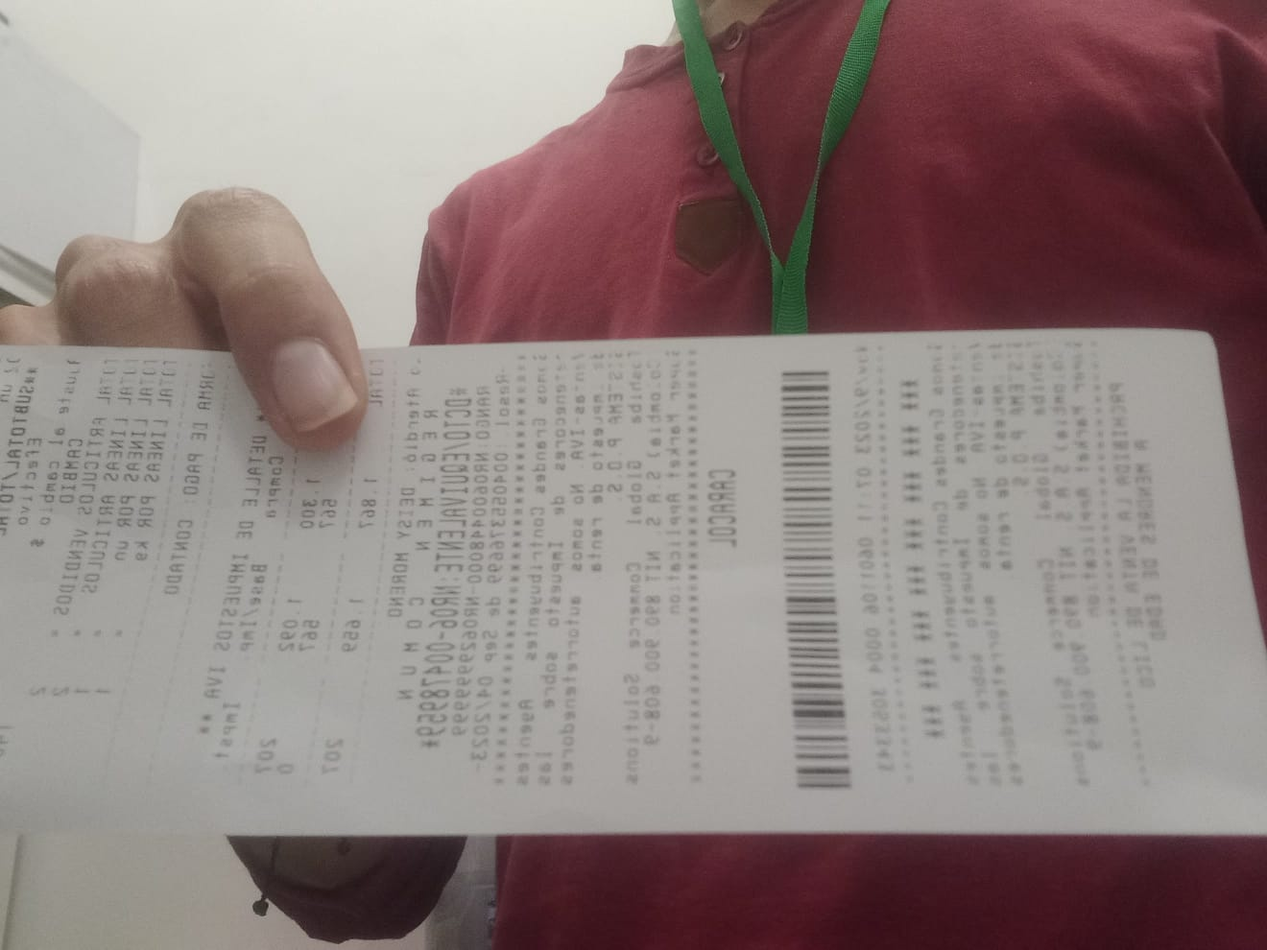Papel: (0, 327, 1267, 836)
